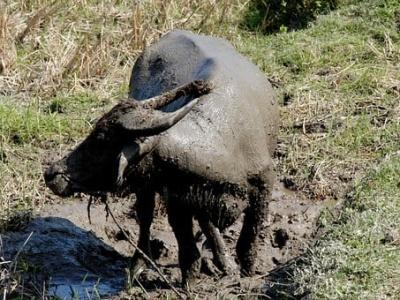buffalo: (45, 29, 278, 289)
